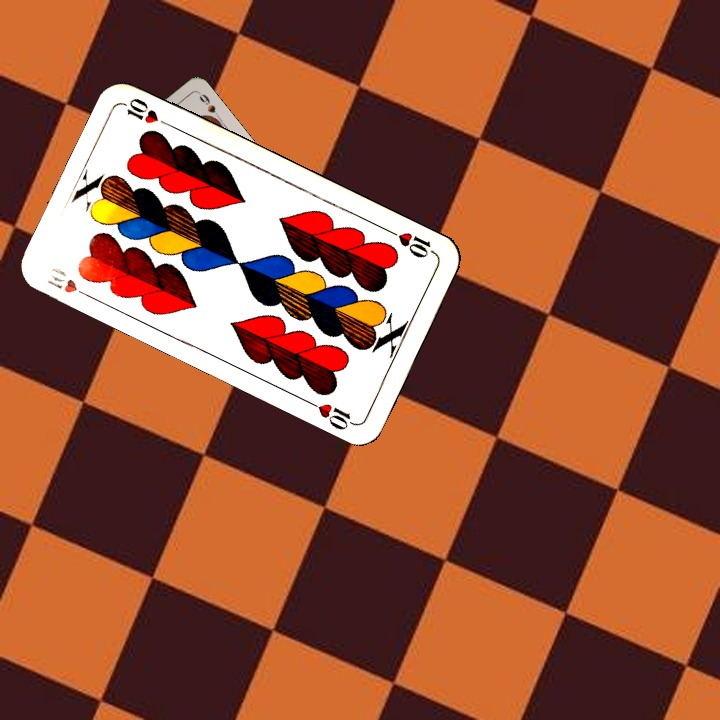H10: (43, 263, 95, 302), (384, 225, 439, 261)
